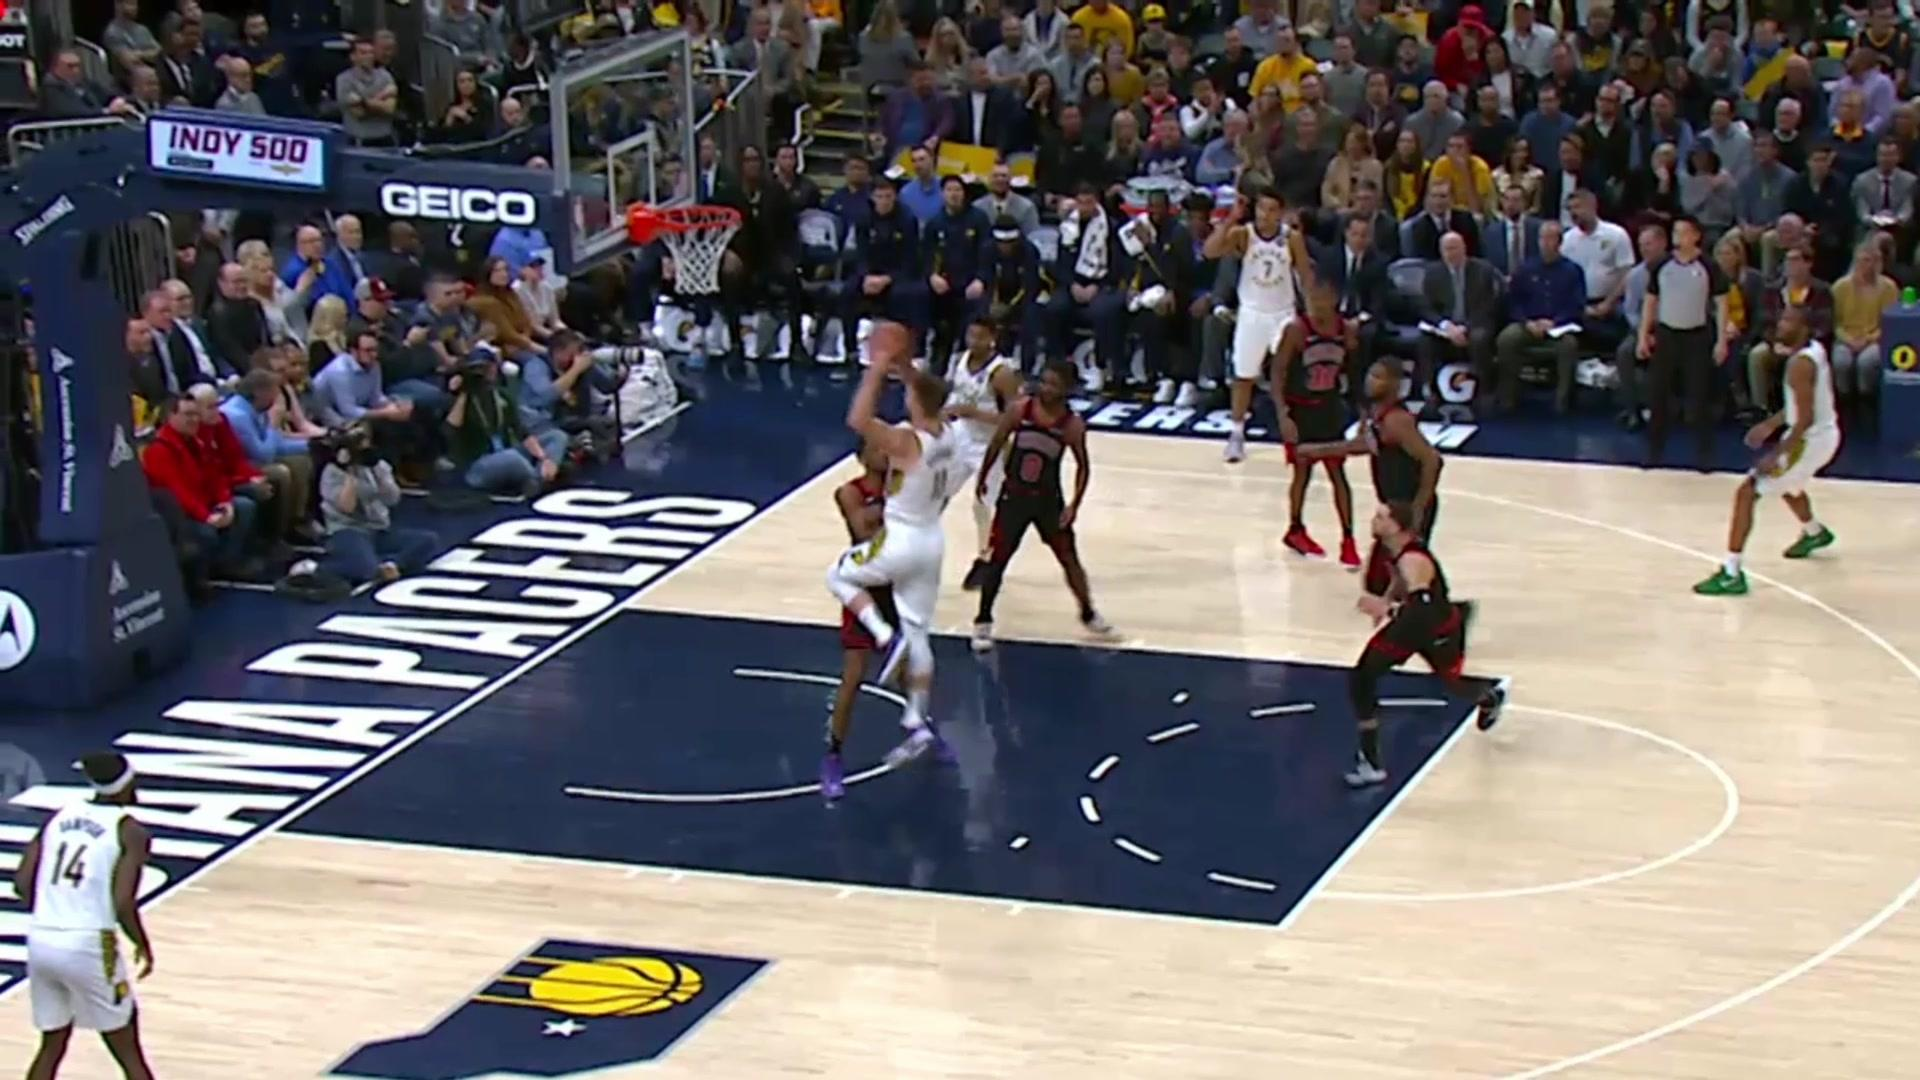foul: (832, 352, 947, 778)
